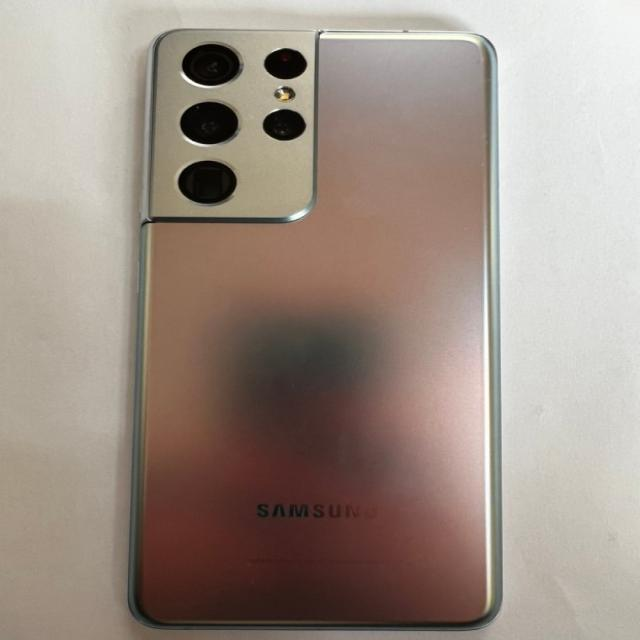phone: (126, 21, 504, 632)
